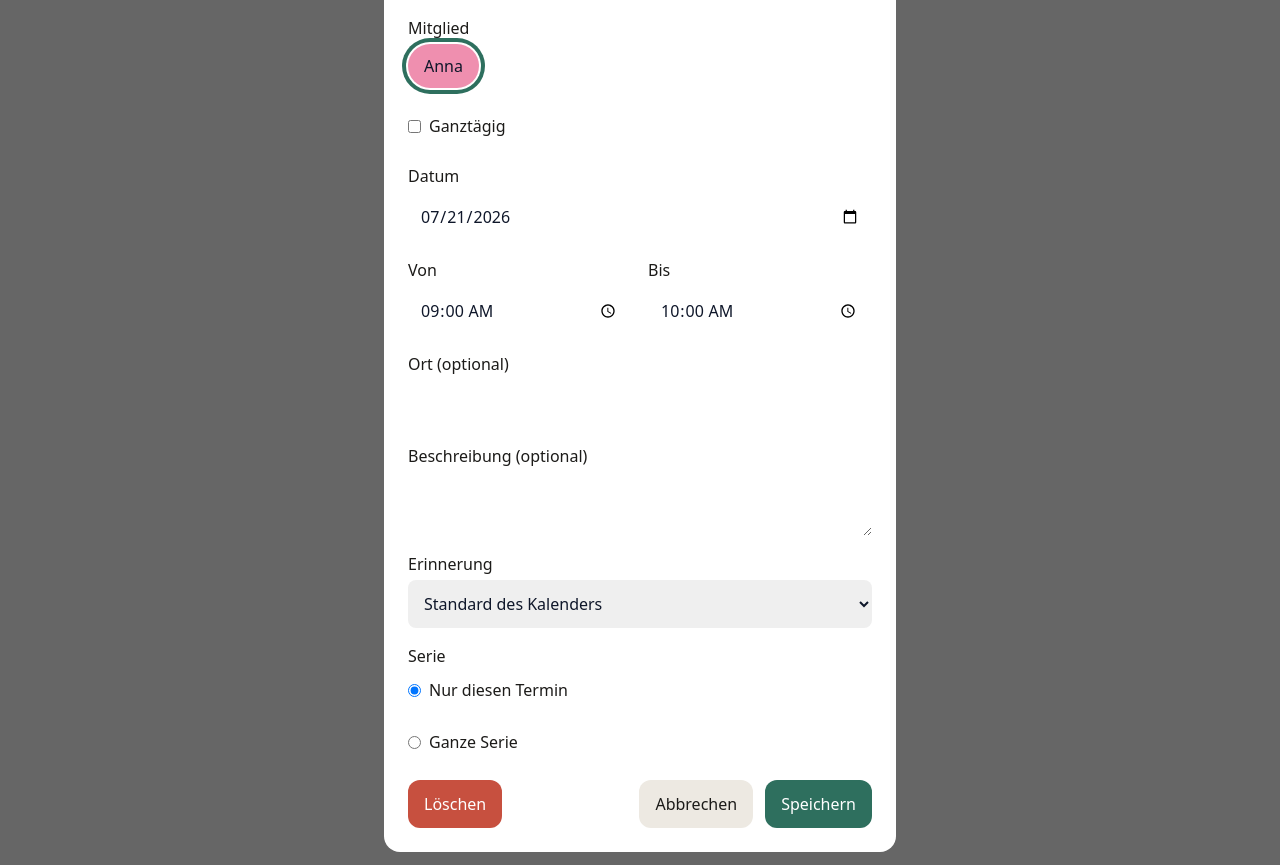
Scenario: EventDialog (edit + delete) › treats a series response without a recurrenceRule as no recurrence
(page scrolled)
Click the radio button labelled "Ganze Serie".
click(414, 742)  # box [408,736,421,748]
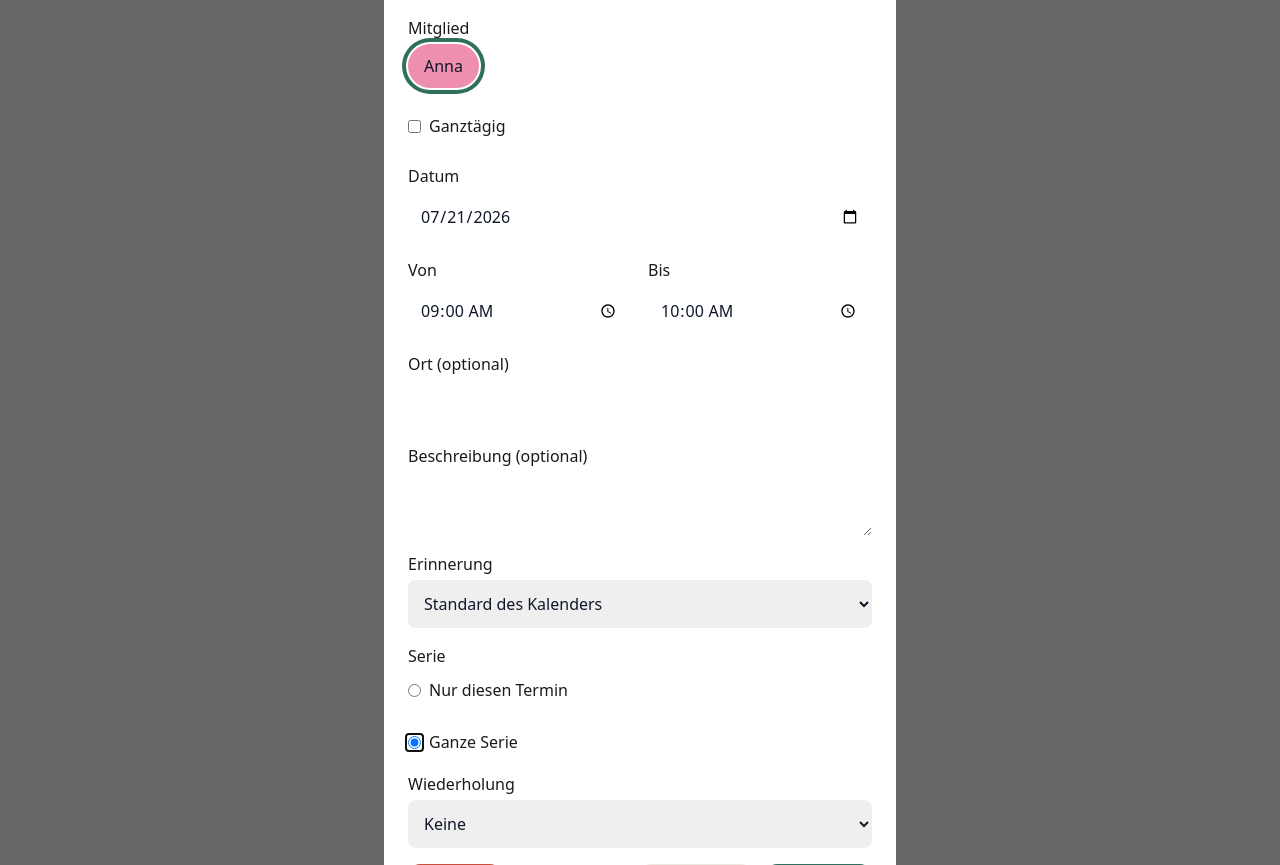
Expected: the dropdown labelled "Wiederholung" shows "Keine", [408,800,872,848]
